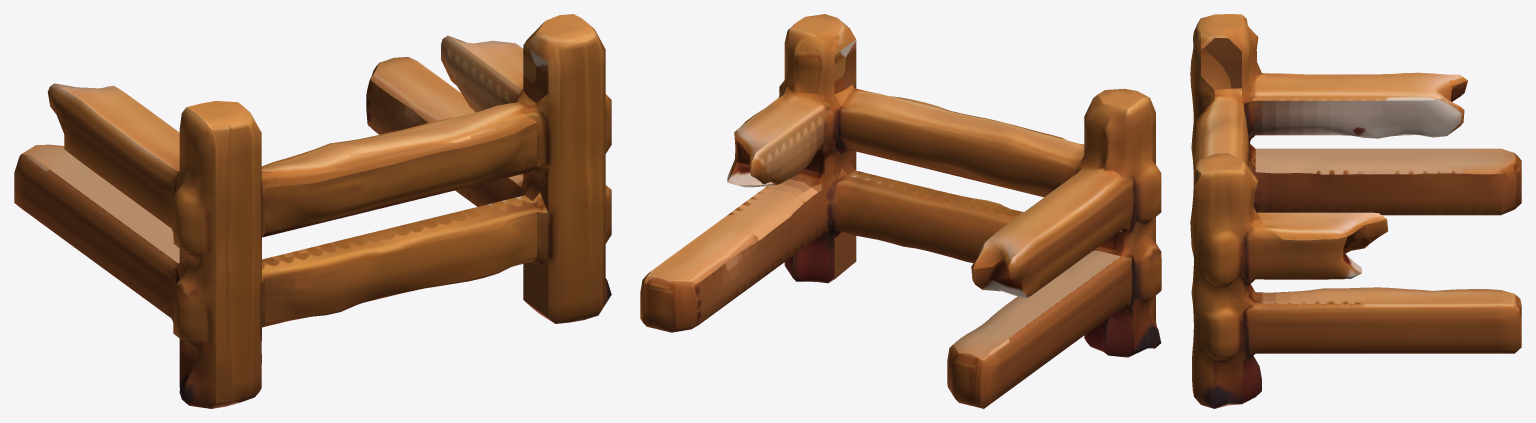
File: fence_2.glb
3 renders of one model, left to right at view 1: azimuth 30°, elevation 25°; view 2: azimuth 150°, elevation 25°; view 3: azimuth 270°, elevation 25°, orthographic. The views are drawn at different scales.
Visible parts, largest first — view 1: tmppjfk9rf_.ply; view 2: tmppjfk9rf_.ply; view 3: tmppjfk9rf_.ply.
Boxes of the visible parts, box(x1,y1,x2,y2) form: tmppjfk9rf_.ply: box(14, 14, 611, 408); tmppjfk9rf_.ply: box(640, 14, 1161, 408); tmppjfk9rf_.ply: box(1190, 14, 1521, 408).
Size of the model in its own units: 1.84 by 1.17 by 1.49.
Materials: 1 (1 with a texture image).
